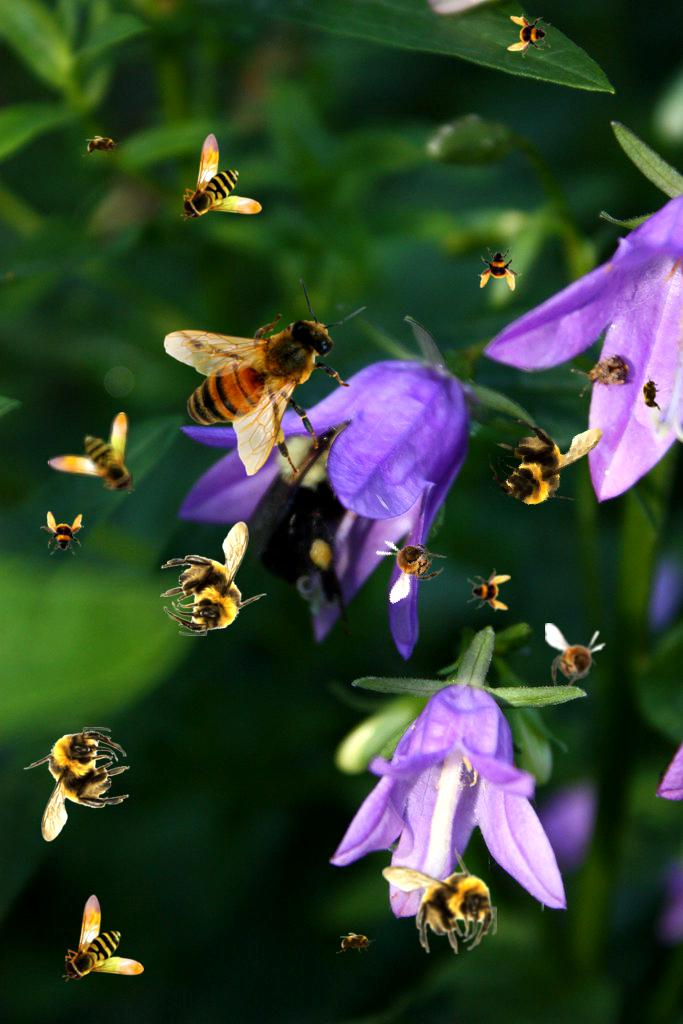Bee: (163, 277, 367, 476), (469, 380, 624, 537), (160, 521, 267, 636), (23, 727, 130, 842), (382, 847, 497, 954), (365, 519, 456, 605), (47, 412, 135, 494), (180, 133, 262, 221), (62, 894, 144, 982), (545, 623, 606, 693), (507, 14, 551, 58), (467, 568, 511, 612), (40, 511, 84, 555), (478, 247, 522, 291), (336, 932, 376, 954), (640, 374, 662, 414), (82, 135, 122, 157)
